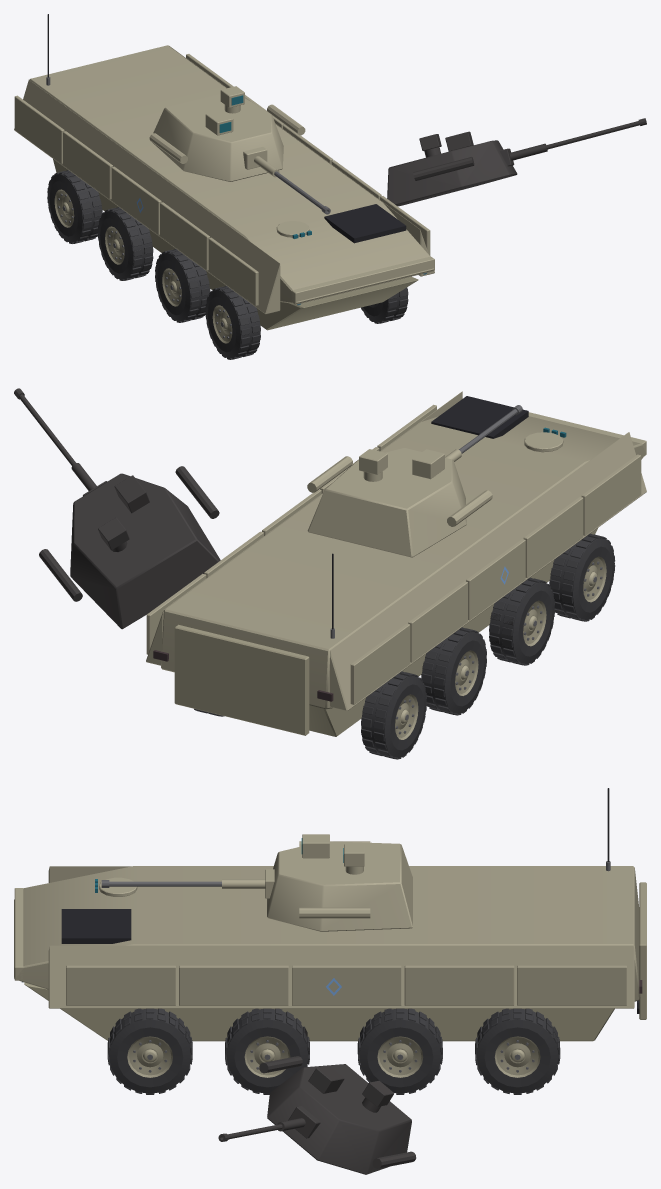
Rendered from apc__zbl_08.glb.
3 renders of one model, top to bottom at view 1: azimuth 30°, elevation 25°; view 2: azimuth 150°, elevation 25°; view 3: azimuth 270°, elevation 25°, orthographic. The views are drawn at different scales.
Parts seen in each view (by area): view 1: Hull_Mesh, Turret_Mesh, Wreck, Wheel_L3_Mesh, Wheel_L1_Mesh, Wheel_L0_Mesh, Wheel_L2_Mesh, Wheel_R3_Mesh, Gun_Mesh; view 2: Hull_Mesh, Wreck, Turret_Mesh, Wheel_L0_Mesh, Wheel_L2_Mesh, Wheel_L1_Mesh, Wheel_L3_Mesh, Gun_Mesh; view 3: Hull_Mesh, Wreck, Turret_Mesh, Wheel_R3_Mesh, Wheel_R0_Mesh, Wheel_R1_Mesh, Wheel_R2_Mesh, Gun_Mesh.
Boxes of the visible parts, x1=… form: Hull_Mesh: x1=14, y1=14, x2=434, y2=330; Turret_Mesh: x1=149, y1=86, x2=305, y2=181; Wreck: x1=64, y1=118, x2=646, y2=359; Wheel_L3_Mesh: x1=205, y1=285, x2=260, y2=359; Wheel_L1_Mesh: x1=98, y1=207, x2=153, y2=280; Wheel_L0_Mesh: x1=47, y1=170, x2=102, y2=243; Wheel_L2_Mesh: x1=155, y1=249, x2=210, y2=322; Wheel_R3_Mesh: x1=361, y1=287, x2=408, y2=323; Gun_Mesh: x1=243, y1=147, x2=330, y2=214; Hull_Mesh: x1=146, y1=391, x2=646, y2=736; Wreck: x1=14, y1=388, x2=605, y2=757; Turret_Mesh: x1=307, y1=448, x2=492, y2=557; Wheel_L0_Mesh: x1=361, y1=671, x2=426, y2=759; Wheel_L2_Mesh: x1=489, y1=577, x2=554, y2=665; Wheel_L1_Mesh: x1=421, y1=627, x2=486, y2=715; Wheel_L3_Mesh: x1=549, y1=533, x2=615, y2=621; Gun_Mesh: x1=445, y1=405, x2=522, y2=461; Hull_Mesh: x1=14, y1=788, x2=646, y2=1041; Wreck: x1=146, y1=1027, x2=529, y2=1174; Turret_Mesh: x1=267, y1=834, x2=412, y2=931; Wheel_R3_Mesh: x1=107, y1=1008, x2=192, y2=1094; Wheel_R0_Mesh: x1=475, y1=1008, x2=560, y2=1094; Wheel_R1_Mesh: x1=357, y1=1008, x2=442, y2=1094; Wheel_R2_Mesh: x1=225, y1=1008, x2=309, y2=1094; Gun_Mesh: x1=101, y1=869, x2=274, y2=898.
Size of what is drawn, in the model's own units: 7.98 by 3.21 by 8.2.
